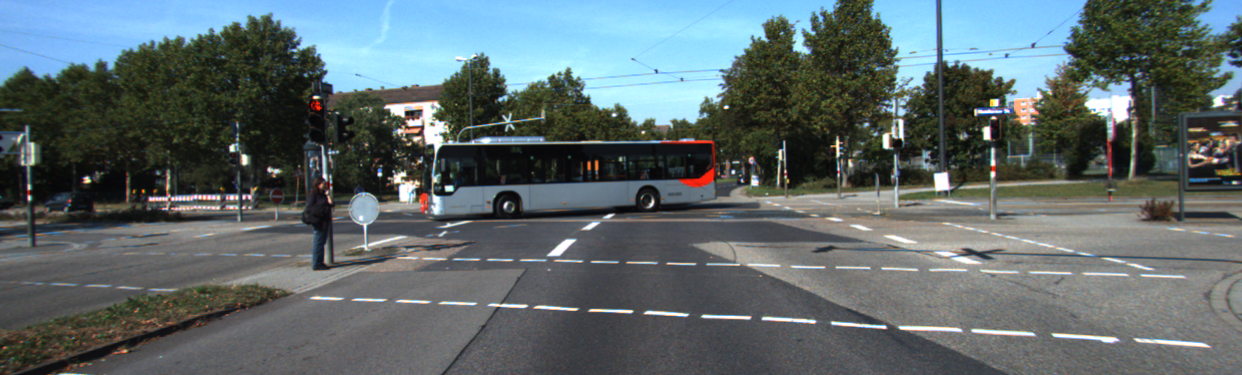car: (512, 179, 546, 199), (559, 179, 588, 198), (535, 180, 563, 197), (579, 177, 602, 195)
person: (301, 173, 335, 273)
